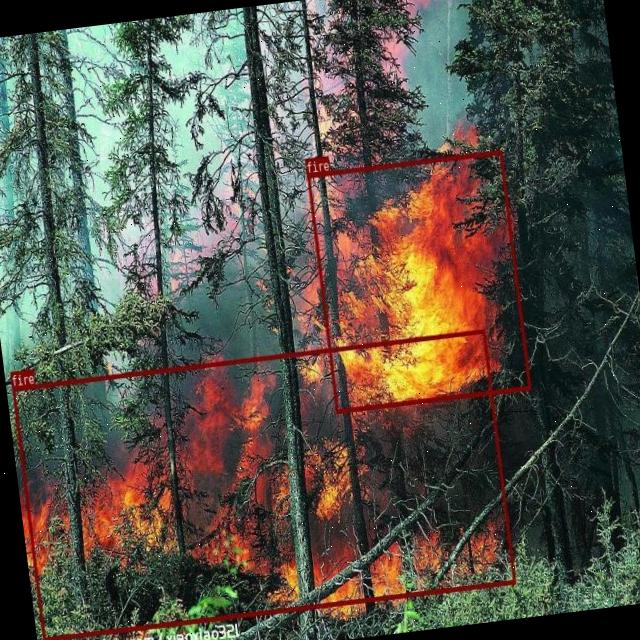fire: (11, 328, 516, 640), (306, 149, 530, 412)
